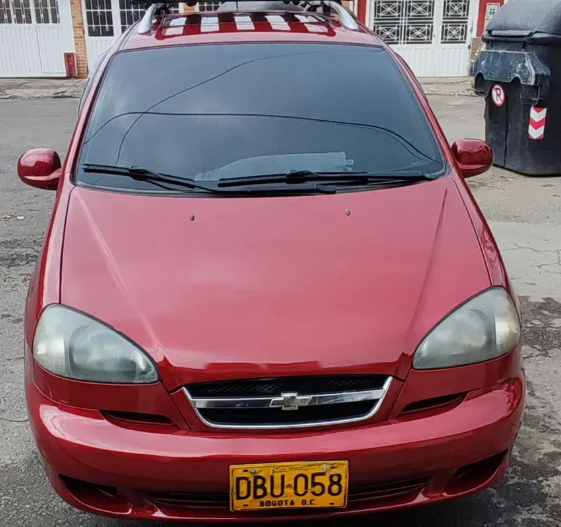placa: (226, 460, 352, 512)
